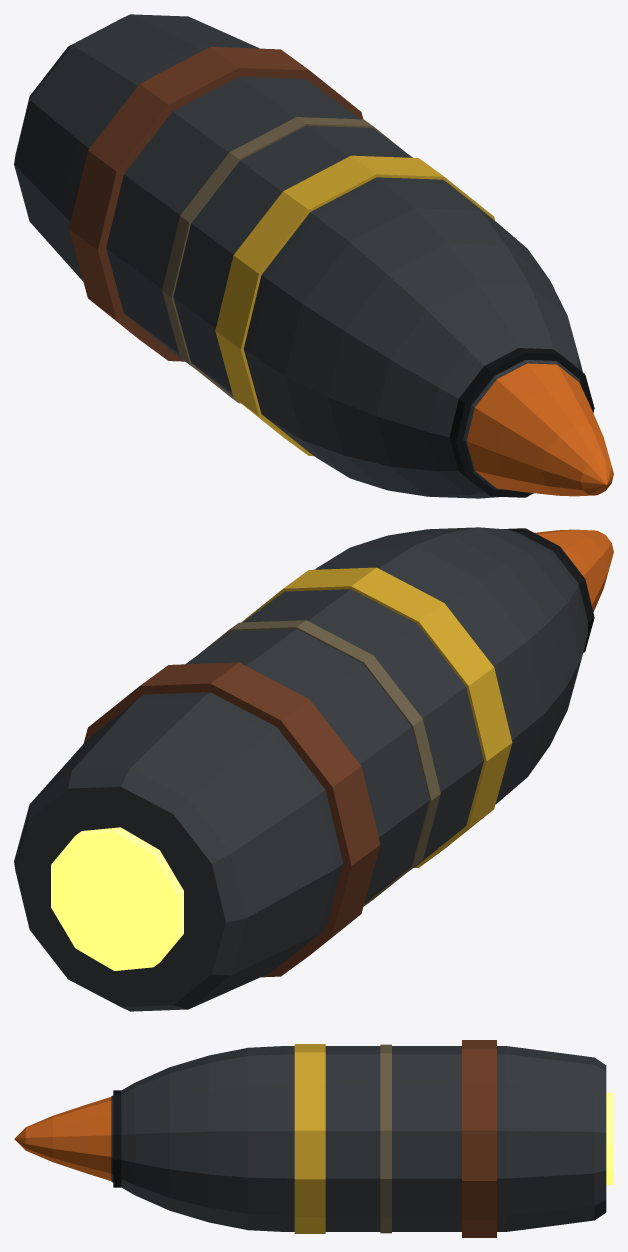
File: shell_barrage.fbx
The picture shows the model from 3 angles, top to bottom: view 1: azimuth 30°, elevation 25°; view 2: azimuth 150°, elevation 25°; view 3: azimuth 270°, elevation 25°; orthographic projection. The views are drawn at different scales.
Parts seen in each view (by area): view 1: Body; view 2: Body, Glow; view 3: Body, Glow.
Boxes of the visible parts, <box> form: Body: <box>14,14,613,498</box>; Body: <box>14,527,613,1011</box>; Glow: <box>51,827,183,970</box>; Body: <box>14,1040,606,1237</box>; Glow: <box>606,1093,613,1184</box>.
Bounding box in the file's own units: 51 × 51 × 154.
Materials: 2 (1 with a texture image).
